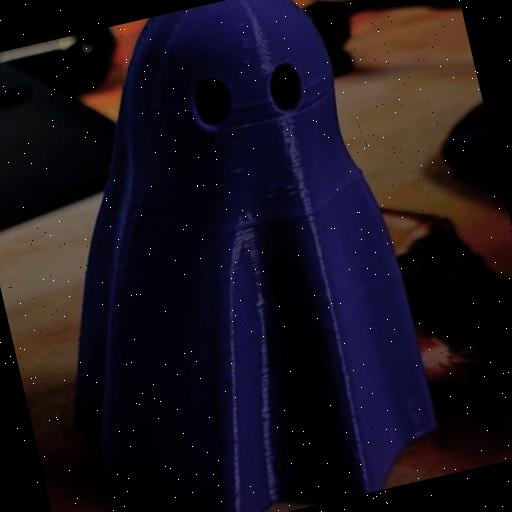blobs: (263, 344, 292, 368), (225, 159, 250, 185), (273, 404, 298, 424), (234, 34, 256, 54), (261, 190, 282, 208), (260, 179, 280, 196), (279, 178, 301, 193), (280, 187, 302, 202), (242, 54, 258, 68)
